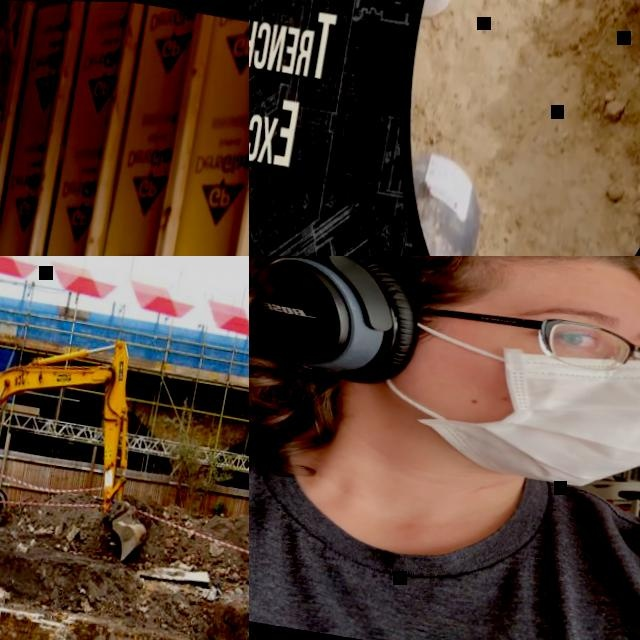Mask: (374, 319, 640, 505)
NO-Hardhat: (250, 256, 640, 327)
NO-Safety Vest: (249, 428, 640, 640)
Person: (249, 256, 640, 640)
machinery: (0, 301, 177, 561)
